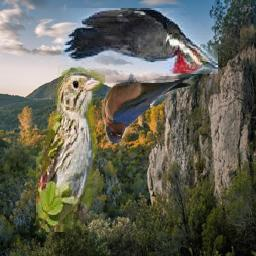Sparrow: (37, 64, 106, 233)
Swallow: (102, 73, 200, 144)
Woodpecker: (62, 8, 219, 74)
